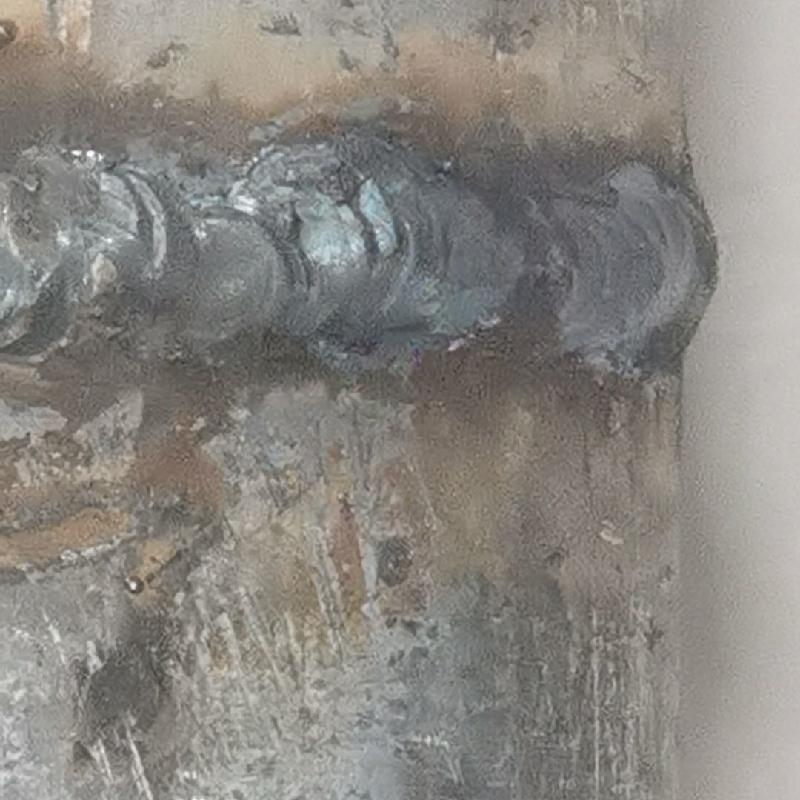good: (3, 129, 718, 407)
